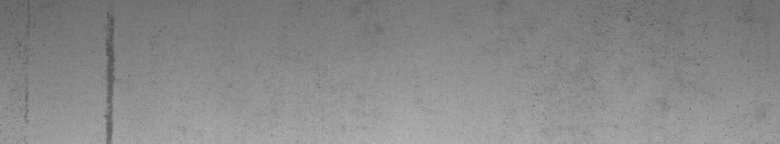hd: (100, 12, 121, 136)
